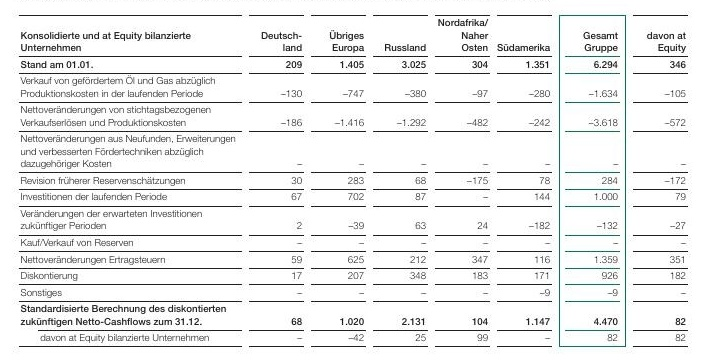table: (0, 0, 702, 362)
